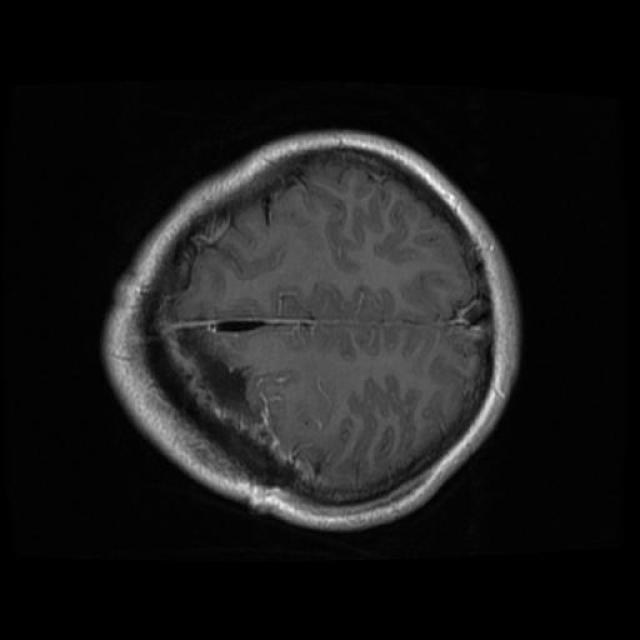Glioma: (148, 320, 296, 485)
